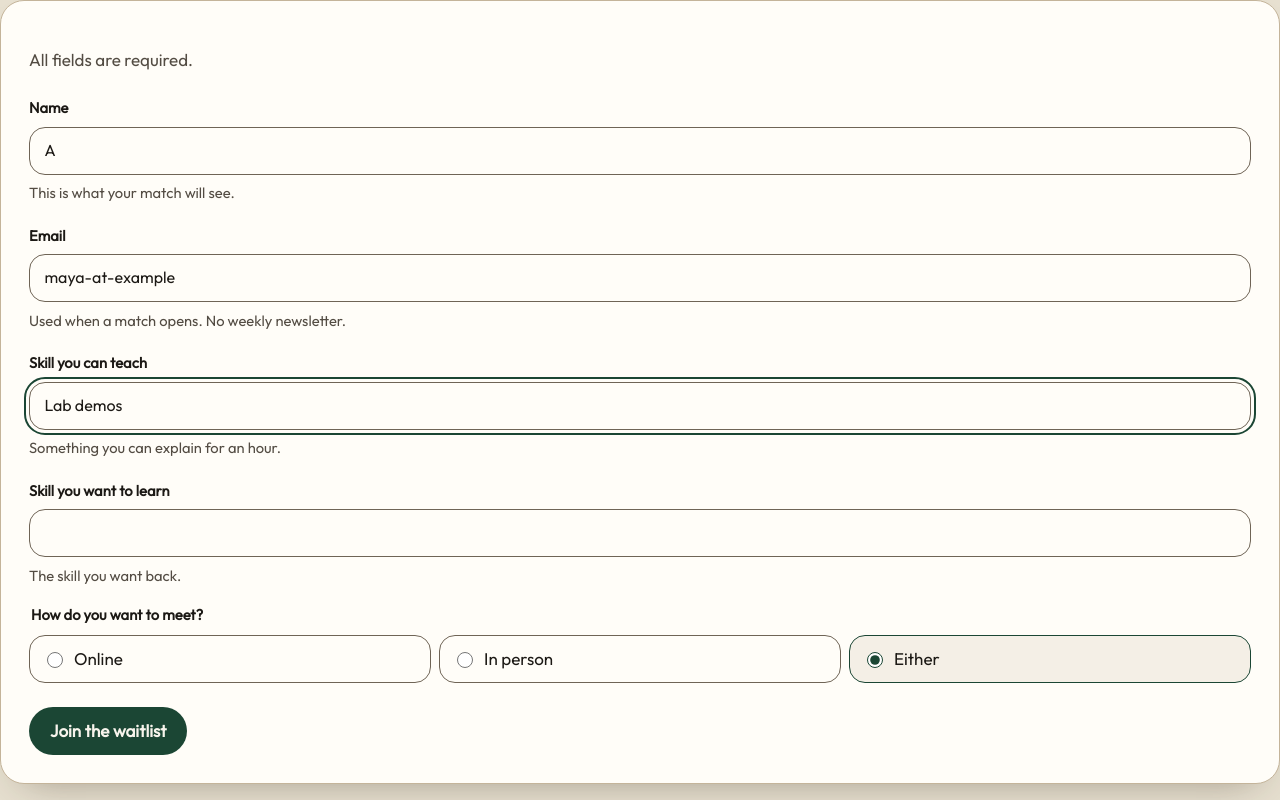
Test: waitlist form validation › rejects a short name and an incomplete email, then accepts a valid signup
Earlier steps of the test are not shown.
Type "Wheel throwing" into the field labelled "Skill you want to learn". click: [640, 533]
box: [29,509,1251,557]
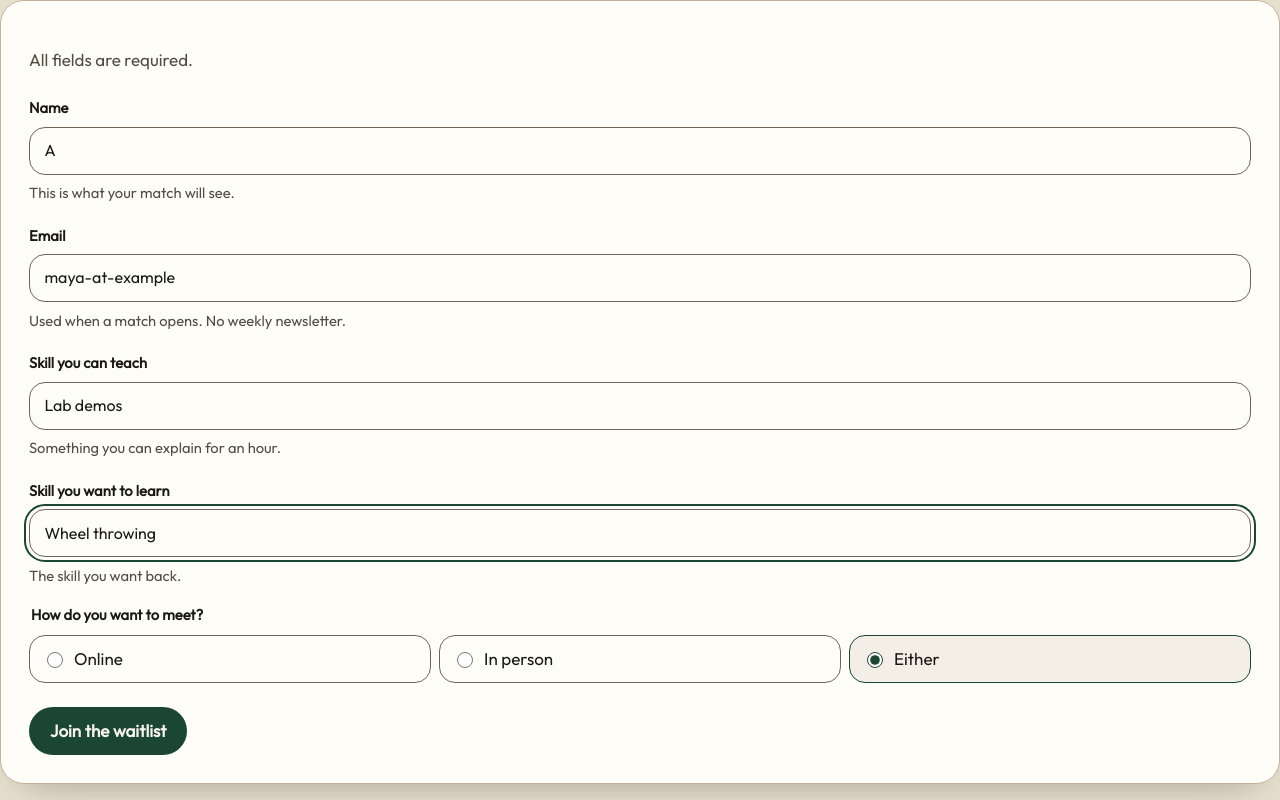
Click the button "Join the waitlist". click: [108, 731]
box: [29,707,188,755]
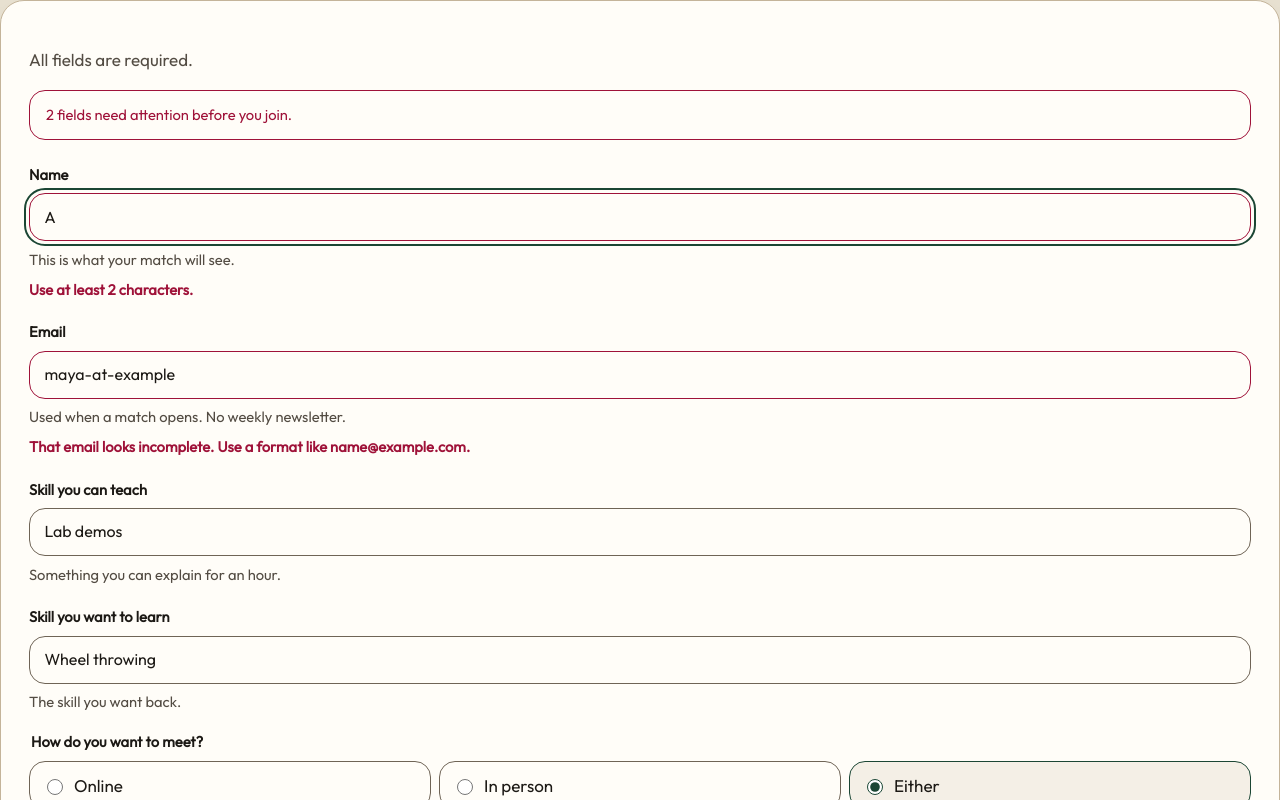
expect the message reads "2 fields need attention before you join.": met, box [46,105,292,124]
expect the text "Use at least 2 characters." is shown: met, box [29,280,193,299]
expect the text "That email looks incomplete. Use a format like name@example.com." is shown: met, box [29,437,470,456]
Replace the text in the field labelled "Name" with "Maya Chen". click: [640, 217]
box: [29,193,1251,241]
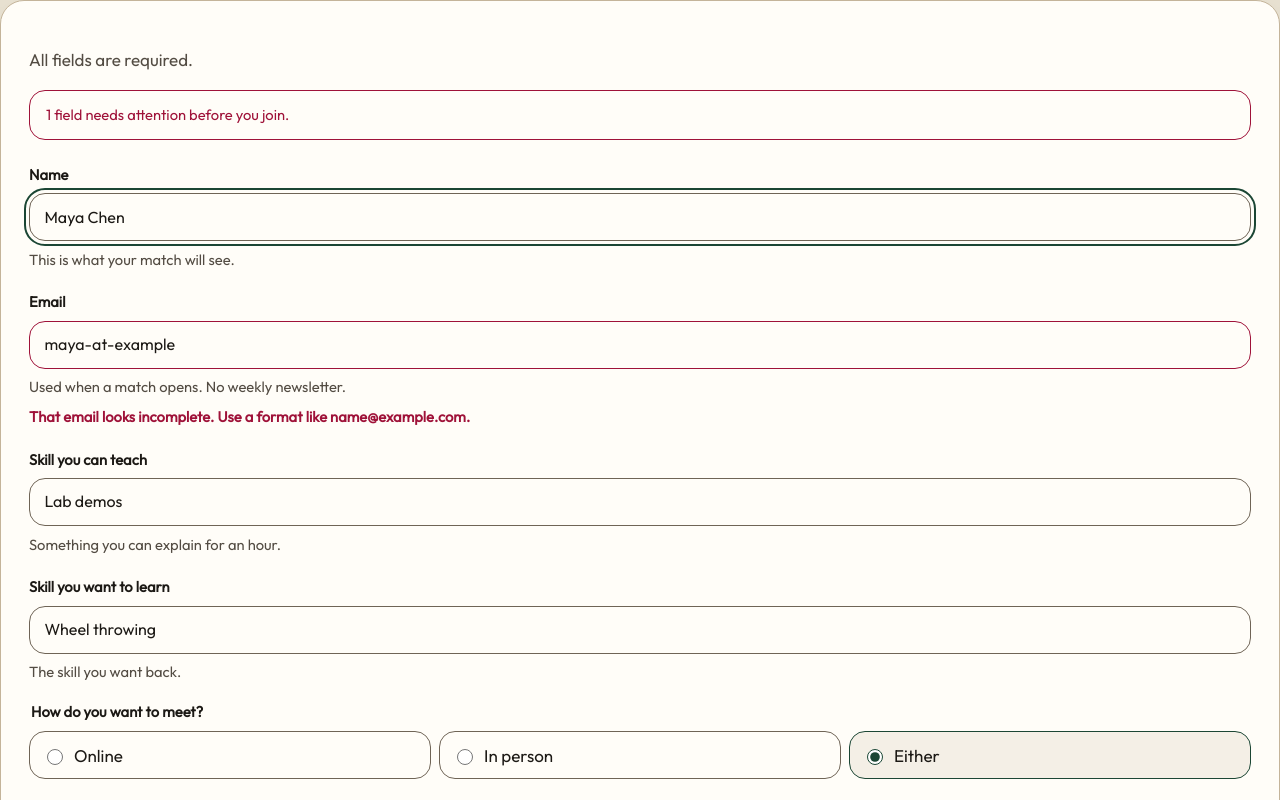
Replace the text in the field labelled "Email" with "maya@example.com". click: [640, 345]
box: [29,321,1251,369]
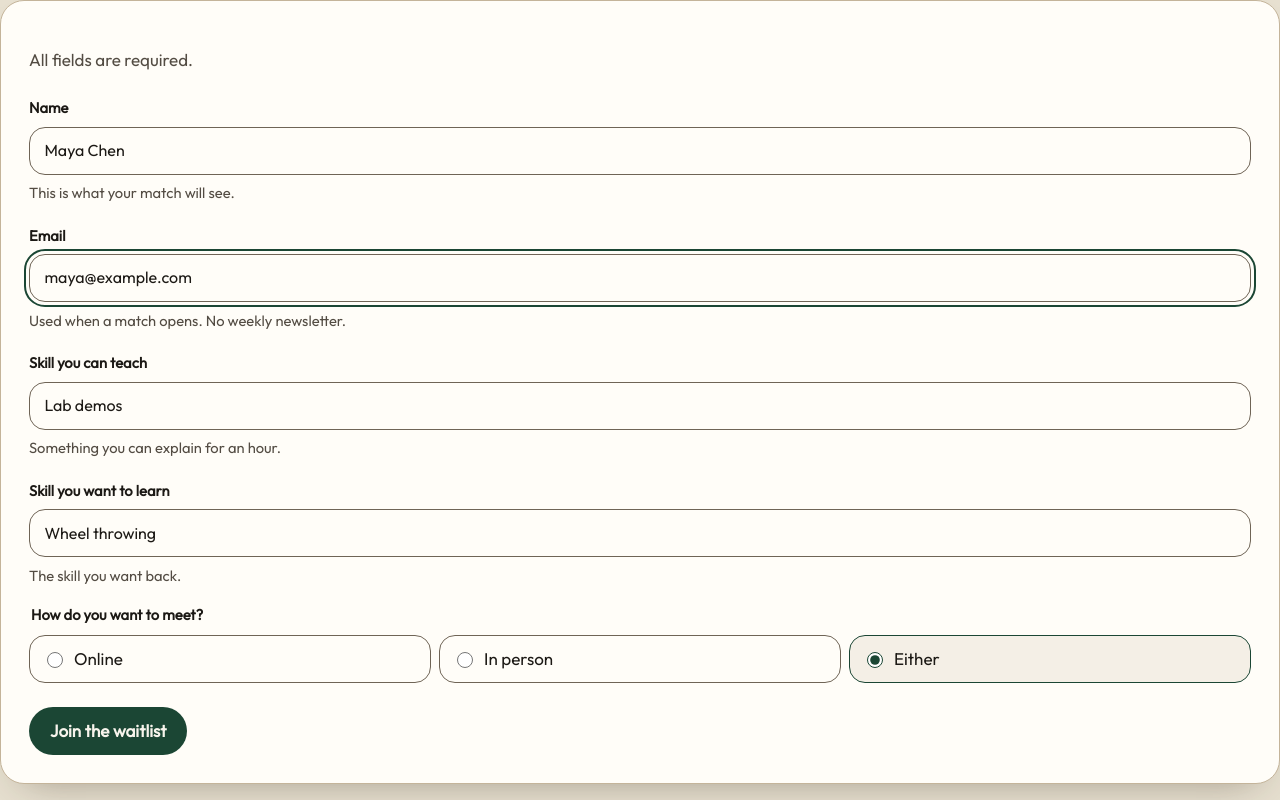
Click the radio button labelled "Online". click: [55, 660]
box: [47,652,63,668]
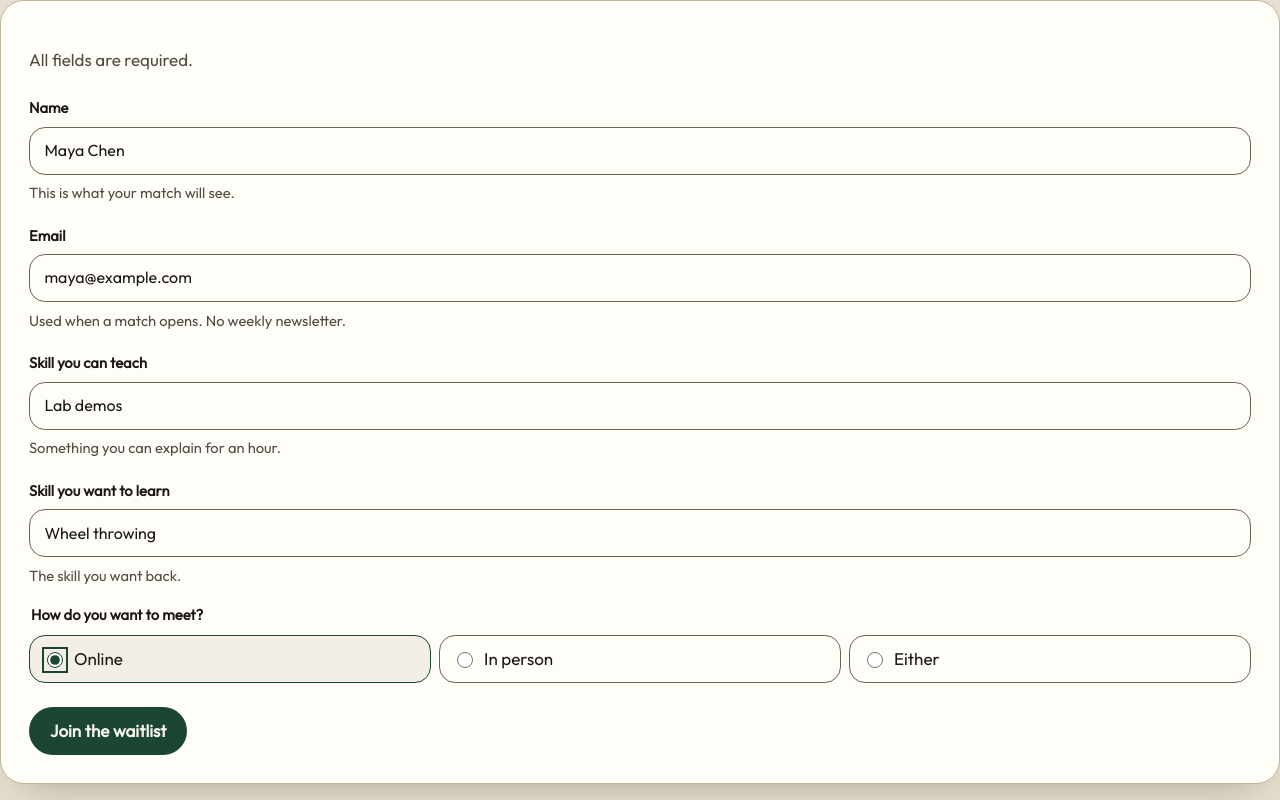
Click the button "Join the waitlist". click: [108, 731]
box: [29,707,188,755]
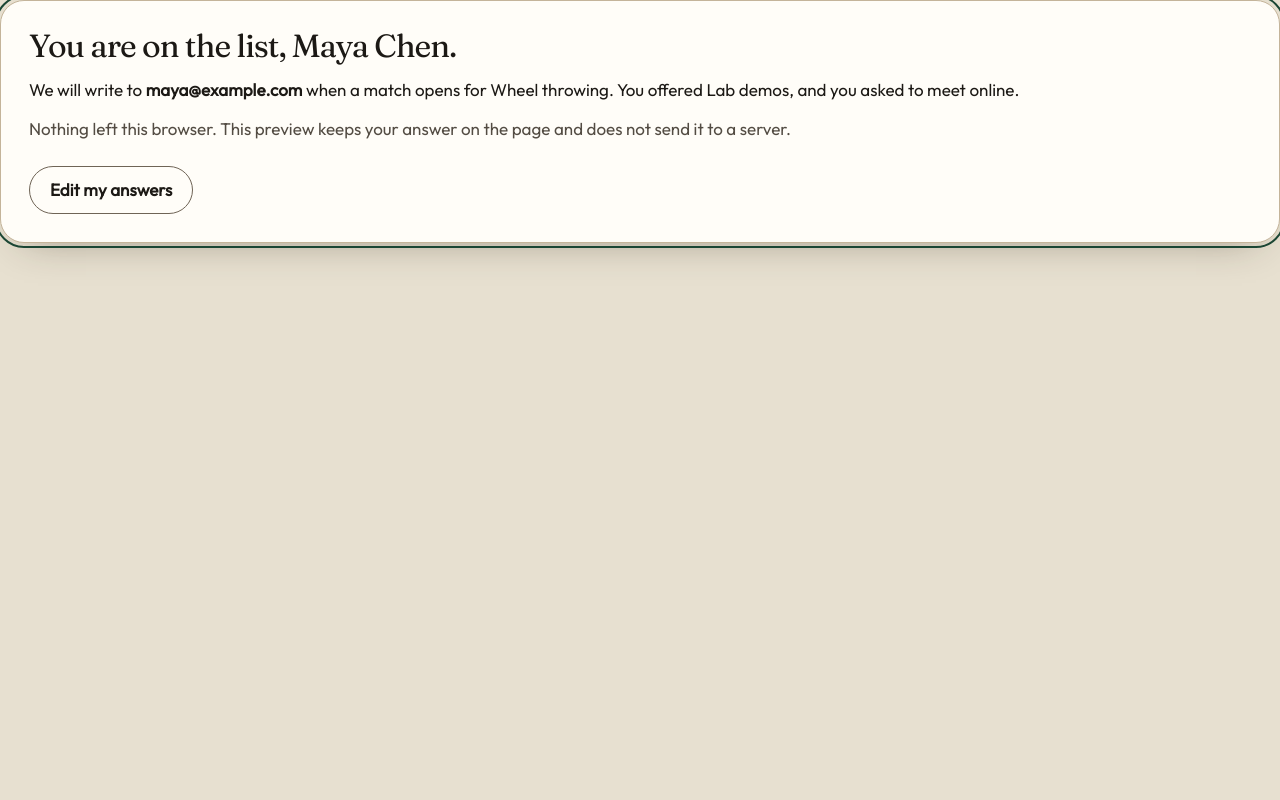
expect the message shows "You are on the list, Maya Chen.": met, box [0,0,1279,243]
expect the message shows "maya@example.com": met, box [146,78,302,100]
expect the message shows "Wheel throwing": met, box [490,78,609,100]
